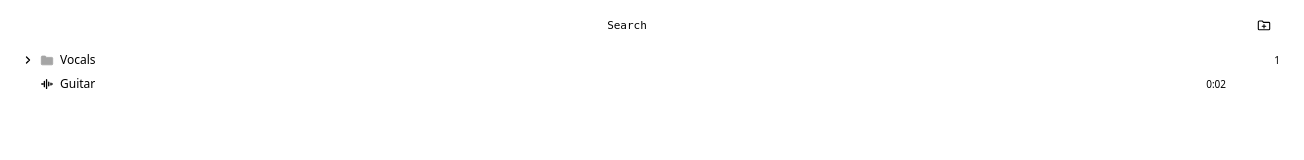
the recordings pages › searches the takes
Type "ver" into the search field.
click(633, 26); type("ver")  # box [24,16,1242,36]
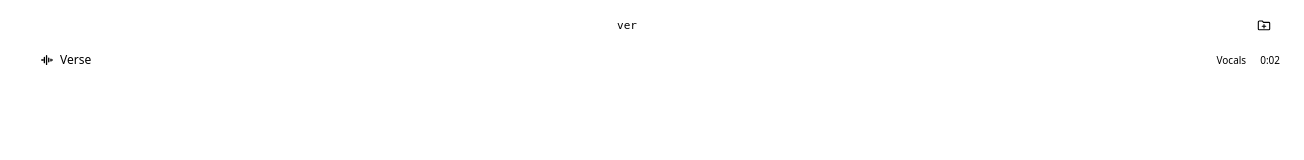
Expected: the text "Verse" is shown, [60,52,91,68]
Expected: the list item "Guitar" is gone
Replace the text in the search field with "zzz" at (633, 26), box [24,16,1242,36]
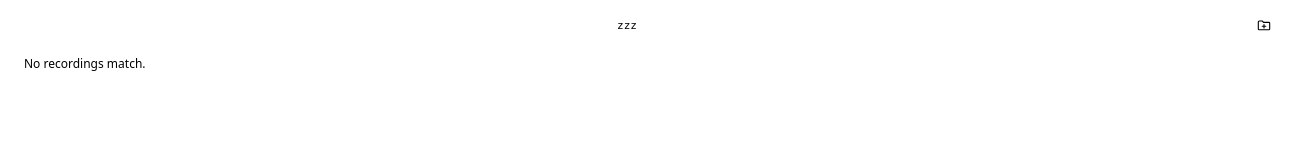
Expected: the text "No recordings match." is shown, [24,55,146,72]
